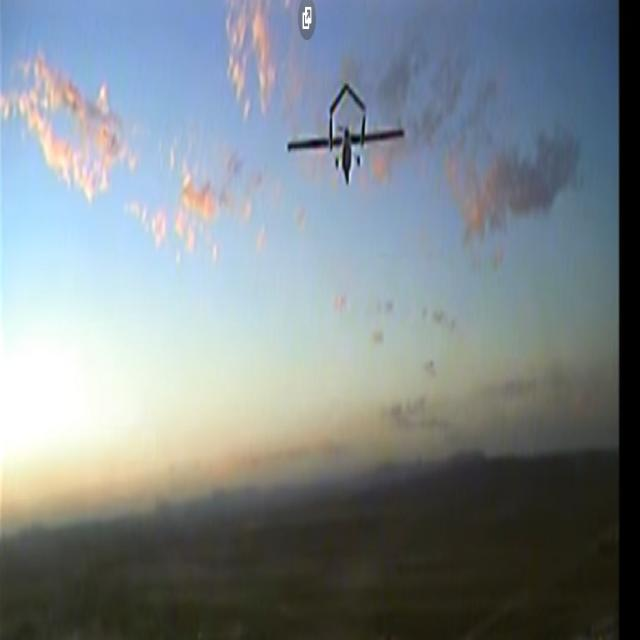iha: (317, 106, 373, 150)
